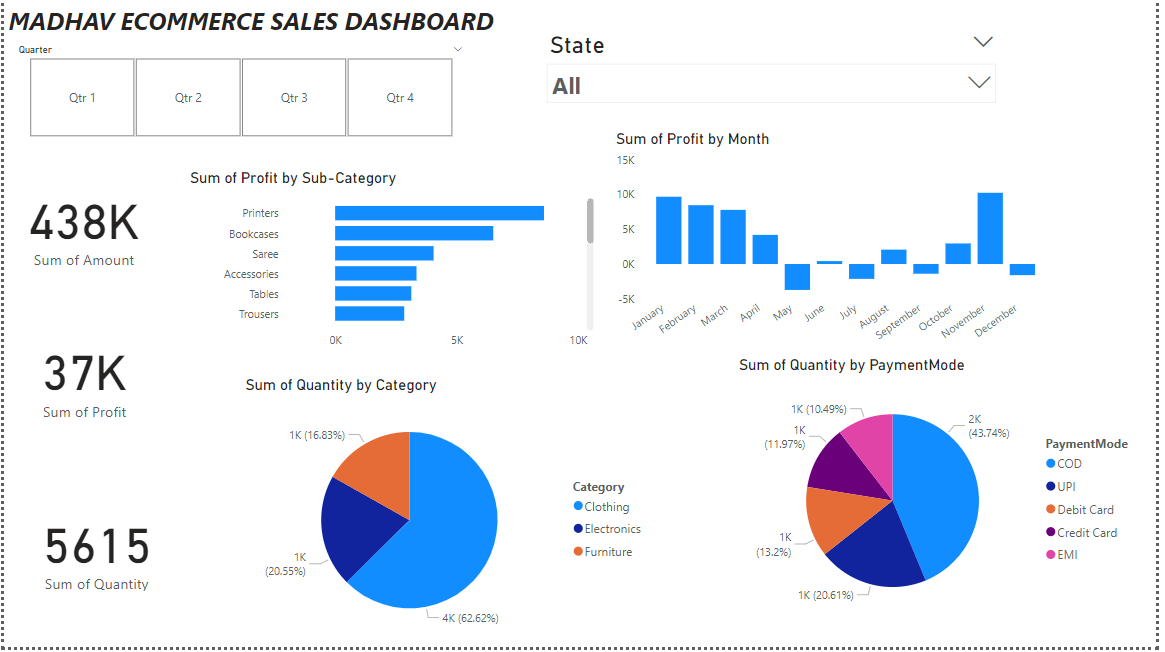

The dashboard page shown, as its layout file describes it:
{"tool":"powerbi","page":{"name":"Page 1","canvas":[1280,720],"ordinal":0},"visuals":[{"type":"columnChart","fields":{"Y":["Details.Profit"],"Category":["Orders.Order Date.Variation.Date Hierarchy.Month"]},"box":[675.7,144.3,490,255.7],"z":0},{"type":"textbox","box":[0,0,611.4,58.6],"z":1000},{"type":"clusteredBarChart","fields":{"Category":["Details.Sub-Category"],"Y":["Details.Profit"]},"box":[201.4,188.6,458.6,208.6],"z":2000},{"type":"pieChart","fields":{"Y":["Details.Quantity"],"Category":["Details.Category"]},"box":[262.9,418.6,458.6,301.4],"z":3000},{"type":"pieChart","fields":{"Y":["Details.Quantity"],"Category":["Details.PaymentMode","Details.Category"]},"box":[811.4,397.1,458.6,301.4],"z":4000},{"type":"card","fields":{"Values":["Details.Amount"]},"box":[0,187.1,177.1,128.6],"z":5000},{"type":"card","fields":{"Values":["Details.Profit"]},"box":[24.3,360,128.6,118.6],"z":6000},{"type":"card","fields":{"Values":["Details.Quantity"]},"box":[28.6,558.6,148.6,104.3],"z":7000},{"type":"slicer","fields":{"Values":["Orders.Order Date.Variation.Date Hierarchy.Quarter"]},"box":[2.9,45.7,518.6,114.3],"z":8000},{"type":"slicer","fields":{"Values":["Orders.State"]},"box":[592.9,30,518.6,114.3],"z":9000}]}

Visuals, with their boxes in screenshot pixels (x1, y1, x2, y2), scaled from the page's 1280x720 canvas onto the 1165x652 screenshot:
columnChart - Details.Profit x Orders.Order Date.Variation.Date Hierarchy.Month: 615, 131, 1061, 362
textbox: 0, 0, 556, 53
clusteredBarChart - Details.Sub-Category x Details.Profit: 183, 171, 601, 360
pieChart - Details.Quantity x Details.Category: 239, 379, 657, 651
pieChart - Details.Quantity x Details.PaymentMode: 739, 360, 1156, 633
card - Details.Amount: 0, 169, 161, 286
card - Details.Profit: 22, 326, 139, 433
card - Details.Quantity: 26, 506, 161, 600
slicer - Orders.Order Date.Variation.Date Hierarchy.Quarter: 3, 41, 475, 145
slicer - Orders.State: 540, 27, 1012, 131
